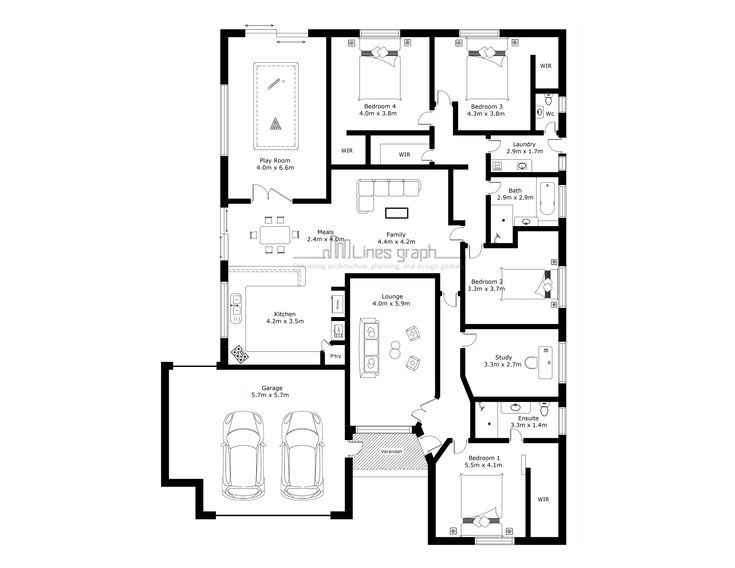door: (246, 182, 288, 207), (409, 399, 442, 425), (417, 433, 445, 455), (456, 333, 486, 353), (454, 430, 471, 460), (445, 222, 467, 243), (347, 438, 370, 457), (486, 137, 505, 155), (316, 336, 333, 356), (467, 245, 484, 262), (439, 90, 449, 110), (541, 120, 557, 132)
room: (169, 370, 350, 510), (222, 198, 349, 370), (216, 28, 330, 211), (430, 36, 568, 181), (443, 179, 572, 332), (322, 32, 446, 173), (340, 275, 446, 439), (429, 439, 566, 543), (452, 332, 569, 446), (339, 169, 449, 276)
wall: (328, 157, 469, 176), (342, 279, 359, 433), (321, 25, 335, 206), (159, 357, 177, 489), (552, 433, 572, 546), (456, 316, 562, 334), (217, 357, 325, 374), (431, 275, 446, 395), (451, 123, 537, 140), (501, 23, 567, 45), (455, 244, 472, 328), (423, 39, 442, 109), (479, 166, 566, 181), (346, 124, 432, 139), (526, 55, 542, 132), (424, 462, 439, 543), (554, 23, 571, 94), (344, 270, 442, 282), (472, 392, 565, 404), (157, 470, 205, 493), (404, 25, 461, 42), (341, 457, 358, 514), (523, 467, 536, 539), (308, 26, 359, 44), (459, 348, 476, 402), (191, 477, 210, 522), (422, 533, 475, 549), (341, 367, 354, 432), (219, 24, 233, 84), (446, 170, 460, 223), (466, 431, 511, 446), (554, 216, 567, 264), (509, 222, 560, 234), (290, 193, 335, 206), (448, 100, 464, 136), (523, 432, 559, 448), (483, 194, 494, 245), (222, 23, 249, 43), (331, 505, 360, 523), (479, 152, 497, 179), (487, 235, 516, 251), (553, 311, 569, 340), (467, 401, 478, 442), (554, 112, 570, 139), (224, 193, 254, 205), (363, 135, 373, 167), (425, 122, 435, 152)
window: (247, 26, 304, 43), (219, 82, 231, 159), (216, 286, 232, 336), (554, 182, 571, 218), (220, 212, 232, 257), (555, 340, 567, 385), (554, 410, 569, 439), (555, 97, 566, 114), (556, 154, 566, 168)
